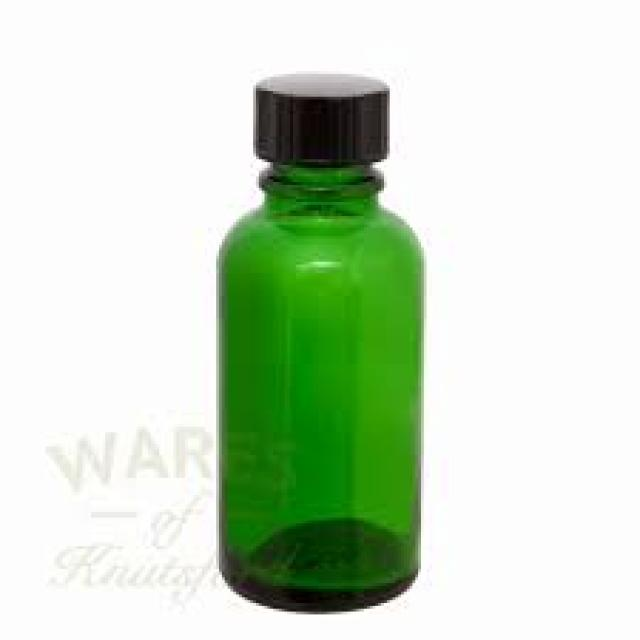Glass: (208, 66, 427, 614)
Plastic: (248, 68, 390, 170)
